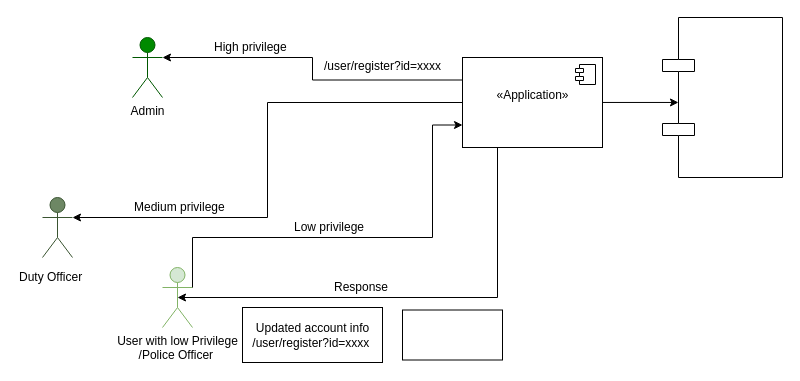
Some shapes in this 800 by 381 pixel diagram are drawn without their labels. The shapes that lost their labels are listed below. From the top down, each one's centre as x and y in pixels, then its label:
At pixel 722 97: "Server".
At pixel 452 334: "Illegal Request".
